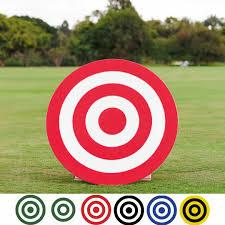target_red: (45, 57, 178, 185), (79, 195, 112, 225)
